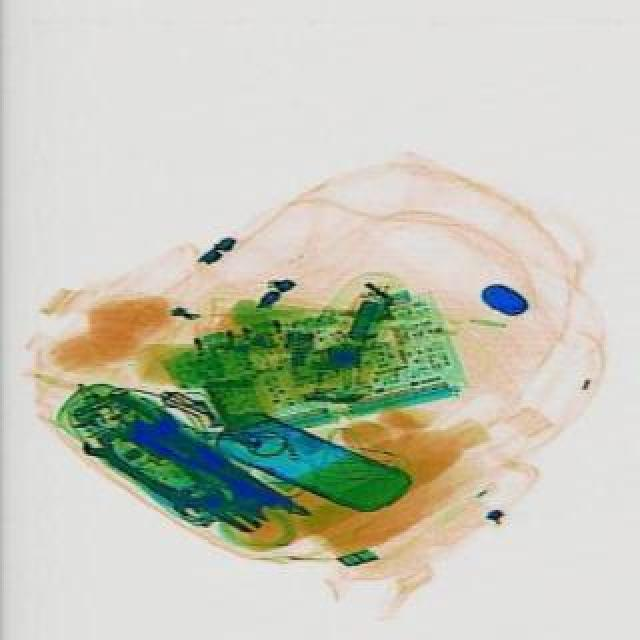scissors: (130, 400, 294, 520), (78, 430, 204, 520)
